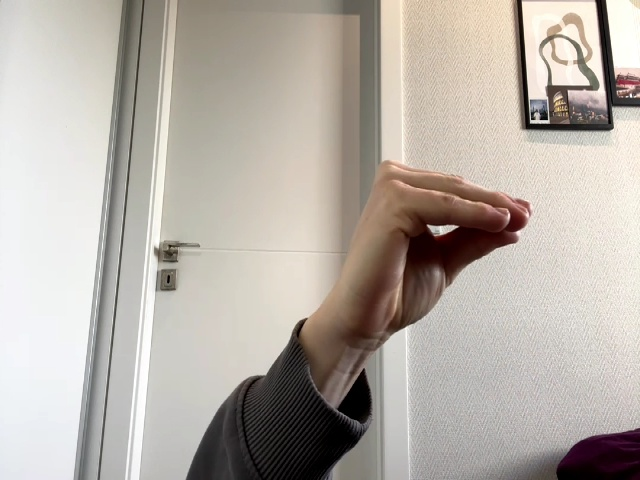E: (335, 161, 535, 345)
